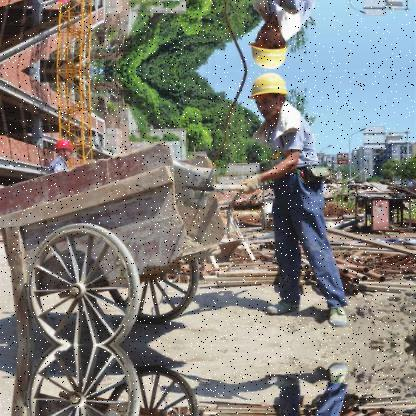helmet: (248, 70, 291, 120), (248, 18, 291, 68), (54, 134, 77, 161), (54, 0, 78, 5)
